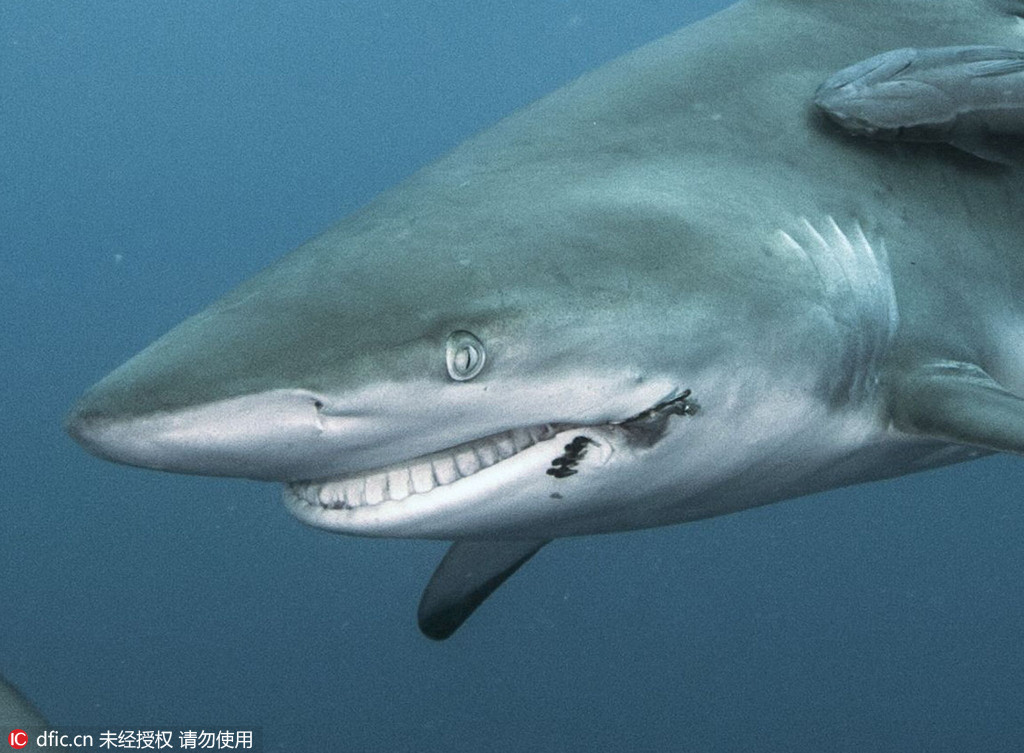shark: (63, 1, 1024, 664)
